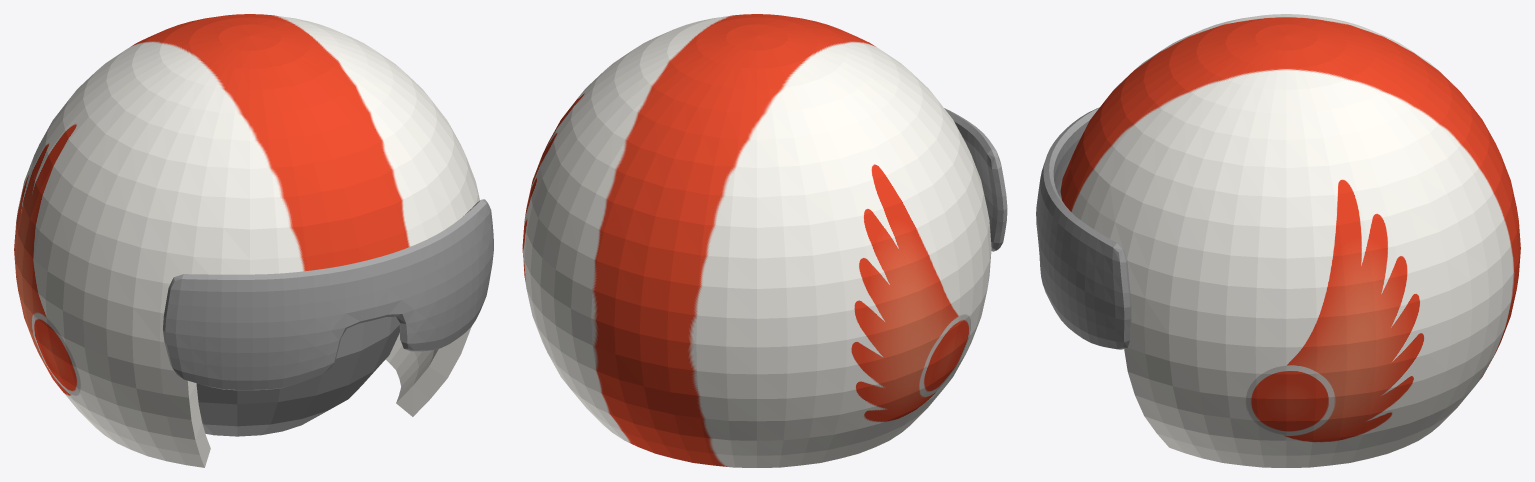
The model's file is full_model.obj.
3 views of the same model, side by side, from view 1: azimuth 30°, elevation 25°; view 2: azimuth 150°, elevation 25°; view 3: azimuth 270°, elevation 25° (orthographic).
Visible parts, largest first — view 1: HELMET, GLASSES, BLACK; view 2: HELMET, GLASSES; view 3: HELMET, GLASSES.
Part boxes in pixels (x1,y1,x2,y2): HELMET: [14, 14, 479, 467]; GLASSES: [163, 199, 493, 390]; BLACK: [196, 316, 399, 436]; HELMET: [522, 14, 991, 467]; GLASSES: [944, 108, 1007, 251]; HELMET: [1060, 14, 1520, 467]; GLASSES: [1036, 107, 1131, 349].
Bounding box in the file's own units: 104 × 93.91 × 107.
